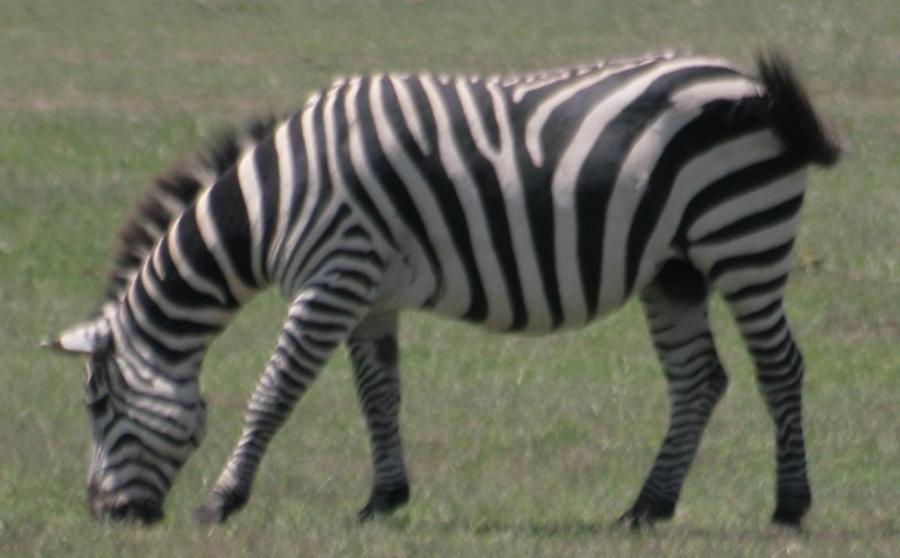zebra_plains: (181, 23, 892, 472)
